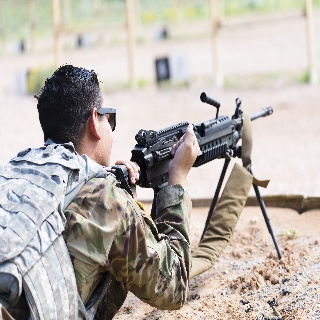rifle: (99, 90, 285, 260)
